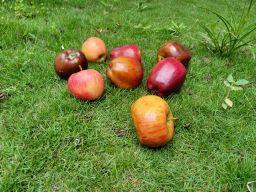apple: (124, 90, 185, 157), (146, 55, 196, 99), (98, 53, 152, 92), (57, 64, 110, 103), (152, 29, 195, 75), (72, 24, 113, 66), (44, 45, 94, 77), (105, 39, 148, 66)
